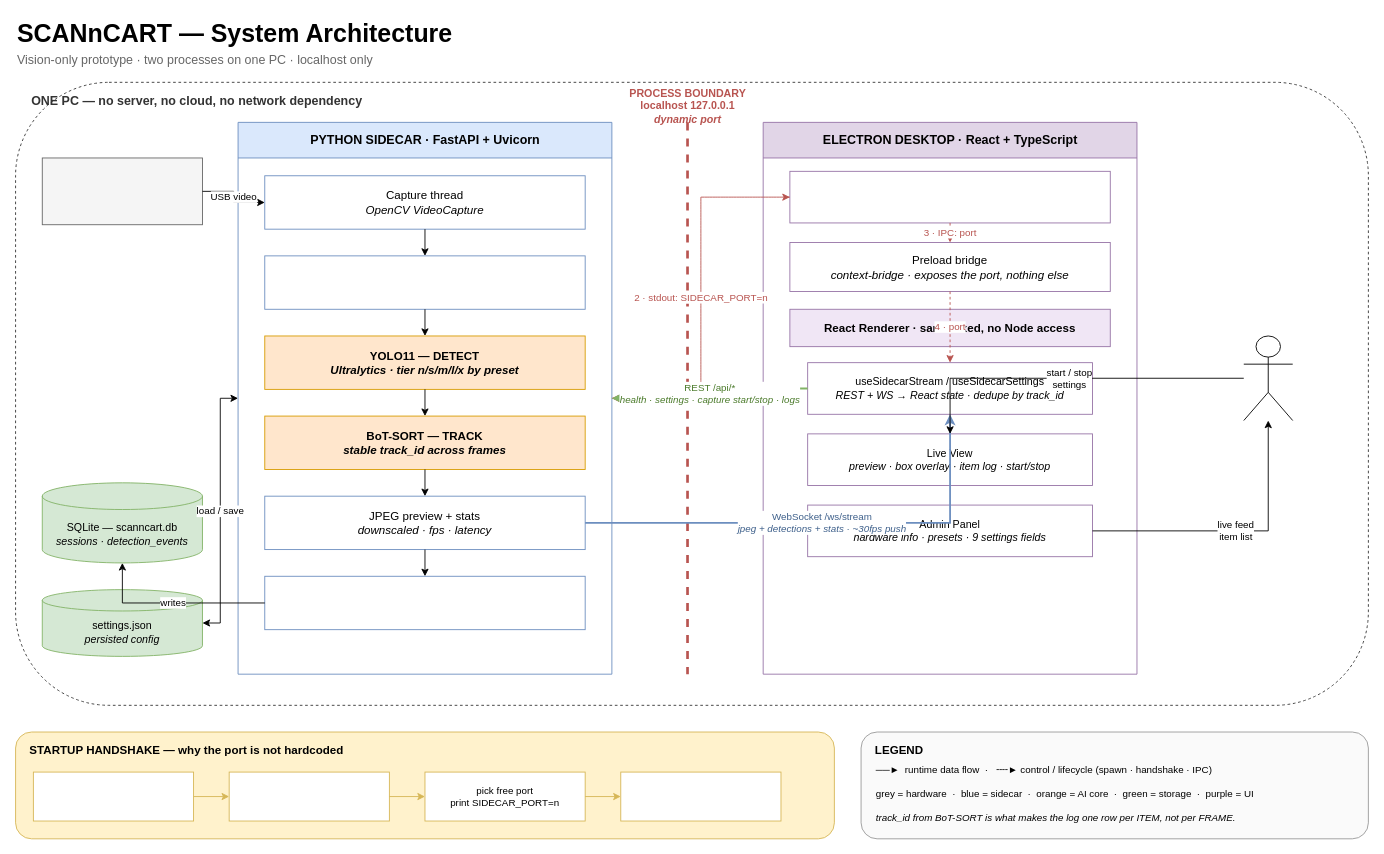
Some shapes in this 1384 by 854 pixel diagram are drawn without their labels. The centre of each missing label's shape, as x and y in pixels:
"Electron app.whenReady()" belongs at [113,796].
"Latest-frame buffer (size 1) newest wins · no queue, no backlog" belongs at [424,282].
"Logging store sole SQLite writer · one row per track_id" belongs at [424,602].
"Logitech StreamCam 1080p · USB" belongs at [121,191].
"Main process (Node) spawns + owns sidecar lifecycle" belongs at [949,196].
"Operator" belongs at [1268,378].
"renderer connects WS auto-retry" belongs at [700,796].
"spawn sidecar/run.py" belongs at [308,796].
